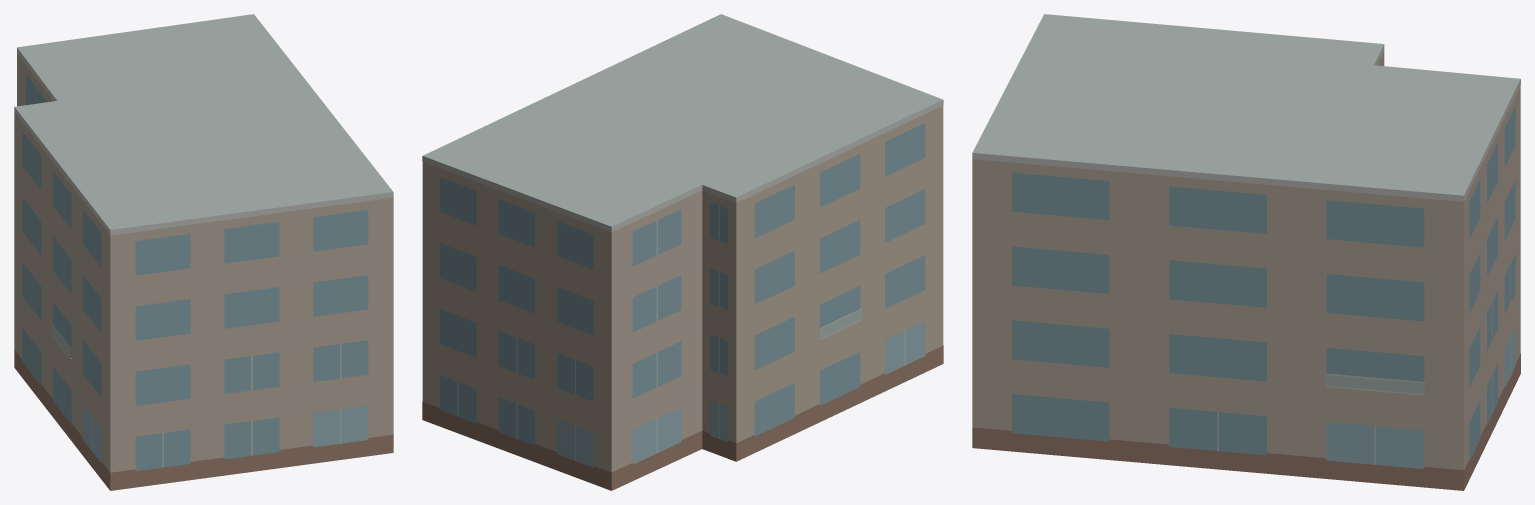
The model's file is survey-upis-32982992.glb.
3 renders of one model, left to right at view 1: azimuth 30°, elevation 25°; view 2: azimuth 150°, elevation 25°; view 3: azimuth 270°, elevation 25°, orthographic. The views are drawn at different scales.
Parts seen in each view (by area): view 1: survey-upis-32982992.tmp; view 2: survey-upis-32982992.tmp; view 3: survey-upis-32982992.tmp.
Boxes of the visible parts, left/top/right/bottom form: survey-upis-32982992.tmp: left=14, top=14, right=393, bottom=490; survey-upis-32982992.tmp: left=422, top=14, right=943, bottom=490; survey-upis-32982992.tmp: left=972, top=14, right=1520, bottom=490.
Size of the model in its own units: 15.19 by 11.5 by 19.38.
